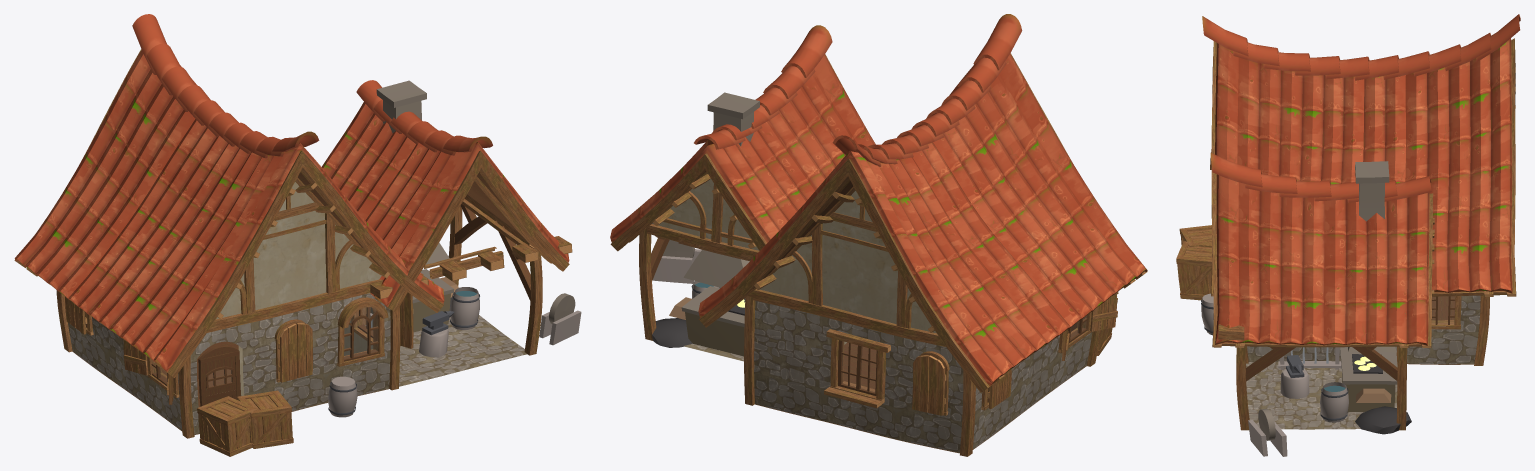
Rendered from S_smithy.gltf.
The picture shows the model from 3 angles, left to right: view 1: azimuth 30°, elevation 25°; view 2: azimuth 150°, elevation 25°; view 3: azimuth 270°, elevation 25°; orthographic projection. The views are drawn at different scales.
Parts seen in each view (by area): view 1: S_smithy; view 2: S_smithy; view 3: S_smithy.
Part boxes in pixels (bbox=[...]): S_smithy: bbox=[14, 14, 581, 456]; S_smithy: bbox=[610, 14, 1147, 456]; S_smithy: bbox=[1176, 14, 1520, 456].
Size of the model in its own units: 13.01 by 8.37 by 8.82.
Materials: 49 (39 with a texture image).
